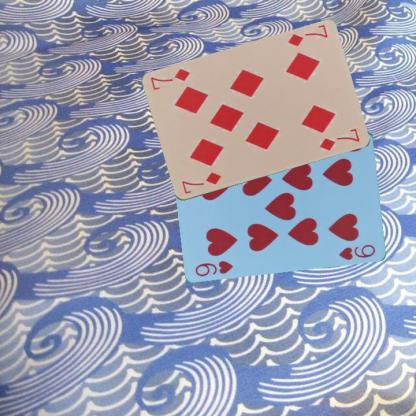7d: (178, 170, 223, 196), (285, 22, 329, 48)
9h: (192, 258, 235, 277)
